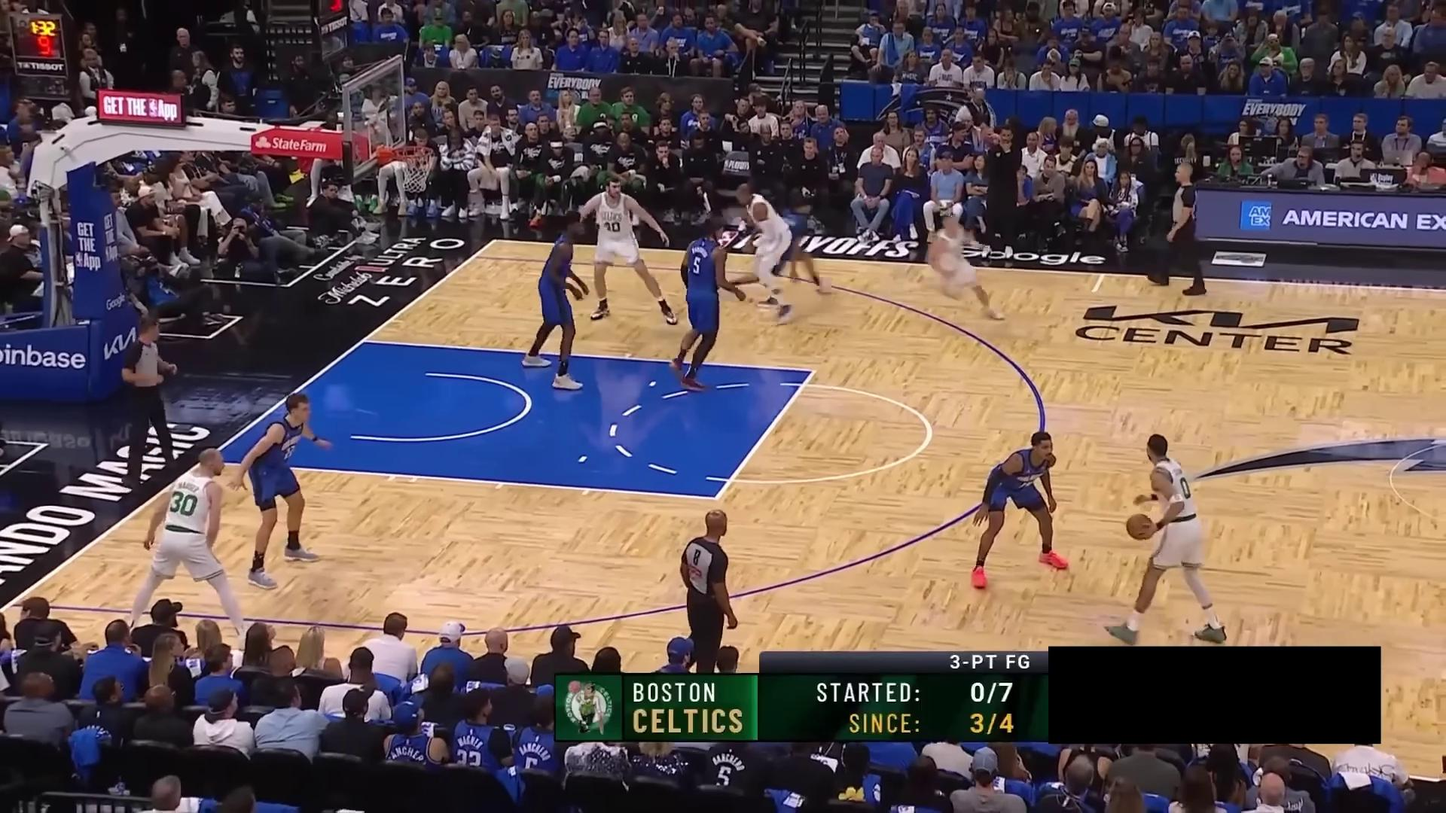ball: (1124, 510, 1159, 540)
number: (169, 492, 200, 520), (1178, 473, 1193, 501), (690, 255, 702, 274), (603, 220, 620, 233)
player: (125, 446, 245, 638), (227, 385, 331, 593), (963, 424, 1071, 594), (580, 171, 681, 324), (515, 210, 594, 393), (672, 212, 747, 396), (925, 209, 1012, 326), (732, 179, 795, 328), (774, 203, 833, 303)
player-in-possession: (1104, 429, 1229, 646)
referee: (673, 508, 744, 679), (120, 312, 179, 487), (1145, 155, 1209, 303)
rim: (393, 144, 435, 160)
